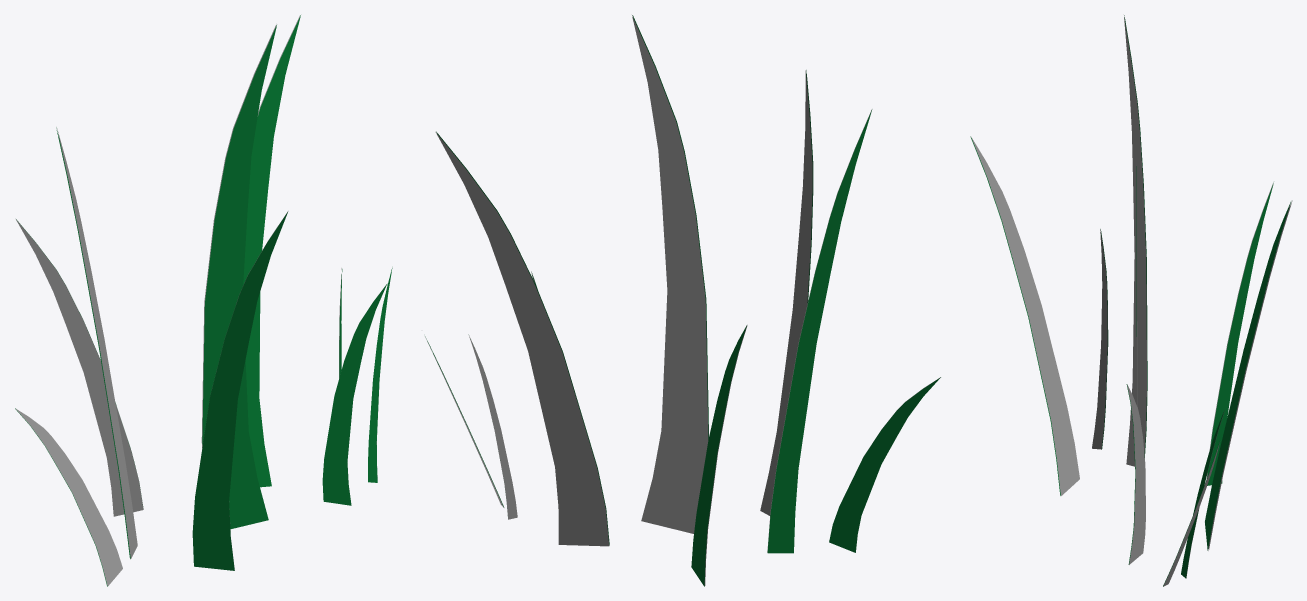
The model's file is 3DGrass.fbx.
3 views of the same model, side by side, from view 1: azimuth 30°, elevation 25°; view 2: azimuth 150°, elevation 25°; view 3: azimuth 270°, elevation 25° (orthographic). The views are drawn at different scales.
Visible parts, largest first — view 1: Grass_v2; view 2: Grass_v2; view 3: Grass_v2.
Boxes of the visible parts, x1,y1,x2,y2 form: Grass_v2: (15,15,392,586); Grass_v2: (425,15,940,586); Grass_v2: (970,15,1292,586).
Bounding box in the file's own units: 8 × 8.6 × 5.49.
